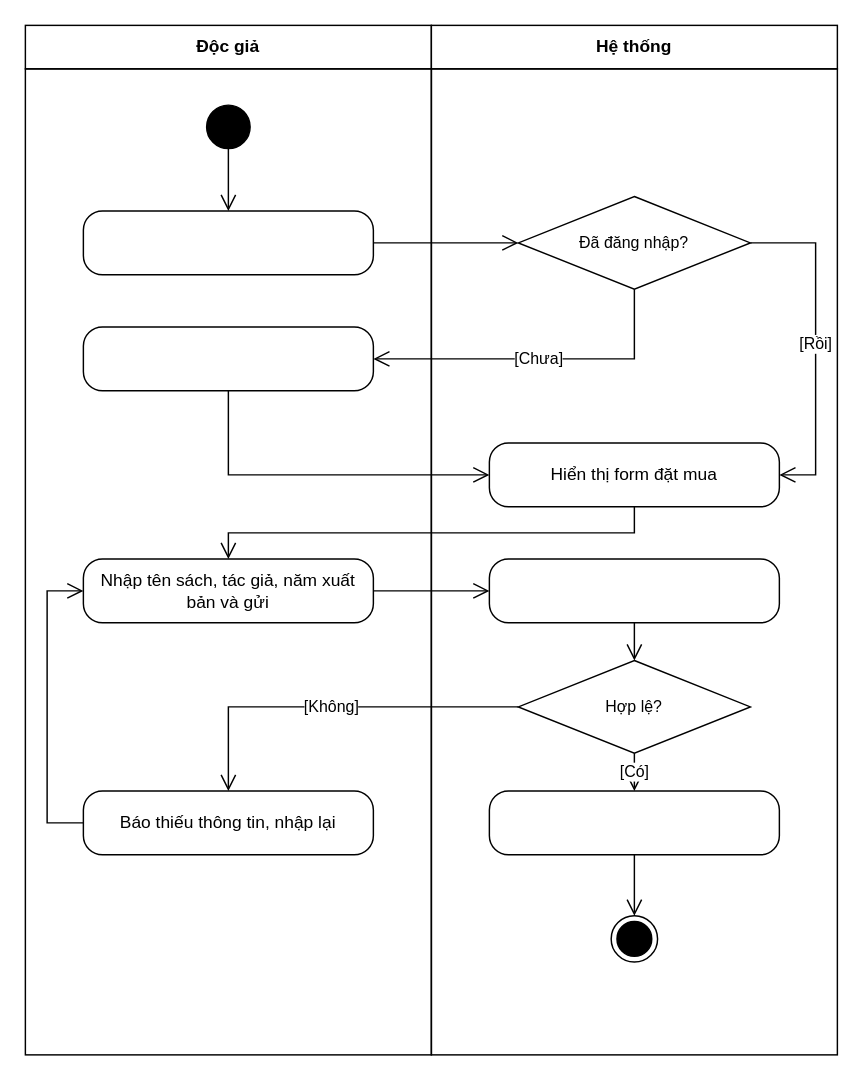
This 863x1080 diagram has some shape labels left out. Here are the shapes that lost their labels. From the top down, the centre of each, then its label:
At point (227, 242): "Chọn chức năng Đặt mua".
At point (227, 358): "Đăng nhập / đăng ký tài khoản".
At point (633, 590): "Kiểm tra dữ liệu bắt buộc".
At point (633, 822): "Lưu yêu cầu đặt mua (Chờ duyệt)".
